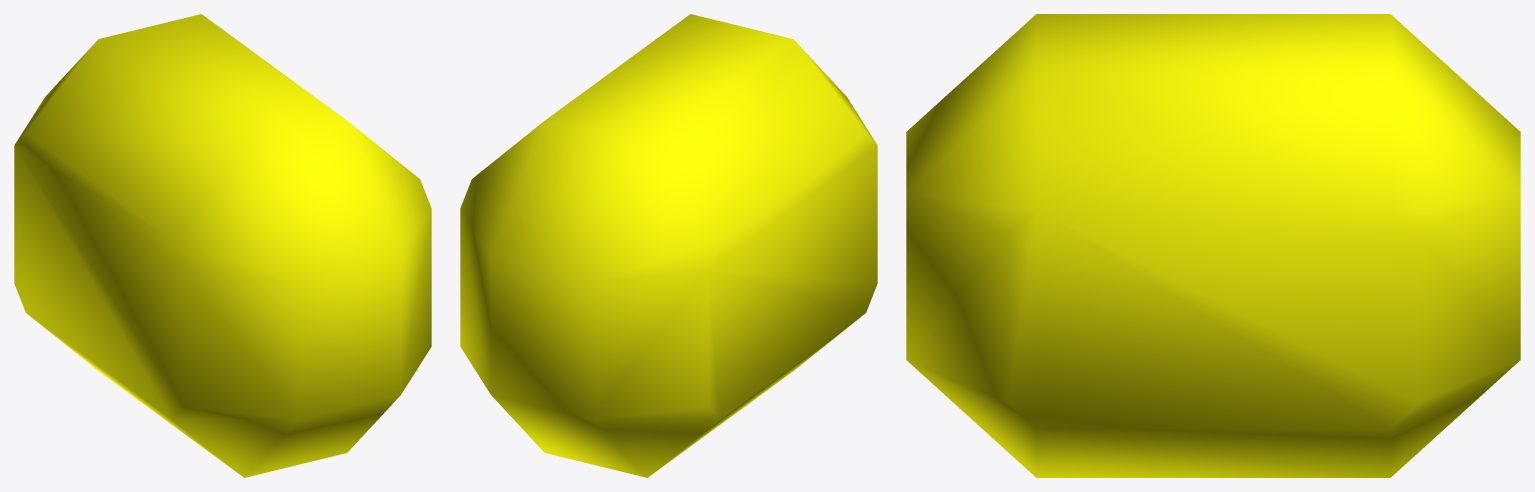
Rendered from Link5.bbox.gltf.
3 views of the same model, side by side, from view 1: azimuth 30°, elevation 25°; view 2: azimuth 150°, elevation 25°; view 3: azimuth 270°, elevation 25° (orthographic). The views are drawn at different scales.
Parts seen in each view (by area): view 1: Link5.bbox; view 2: Link5.bbox; view 3: Link5.bbox.
Part boxes in pixels (x1,y1,x2,y2): Link5.bbox: [14, 14, 431, 477]; Link5.bbox: [460, 14, 877, 477]; Link5.bbox: [906, 14, 1520, 477].
Bounding box in the file's own units: 0.0715 × 0.0914 × 0.1263.
